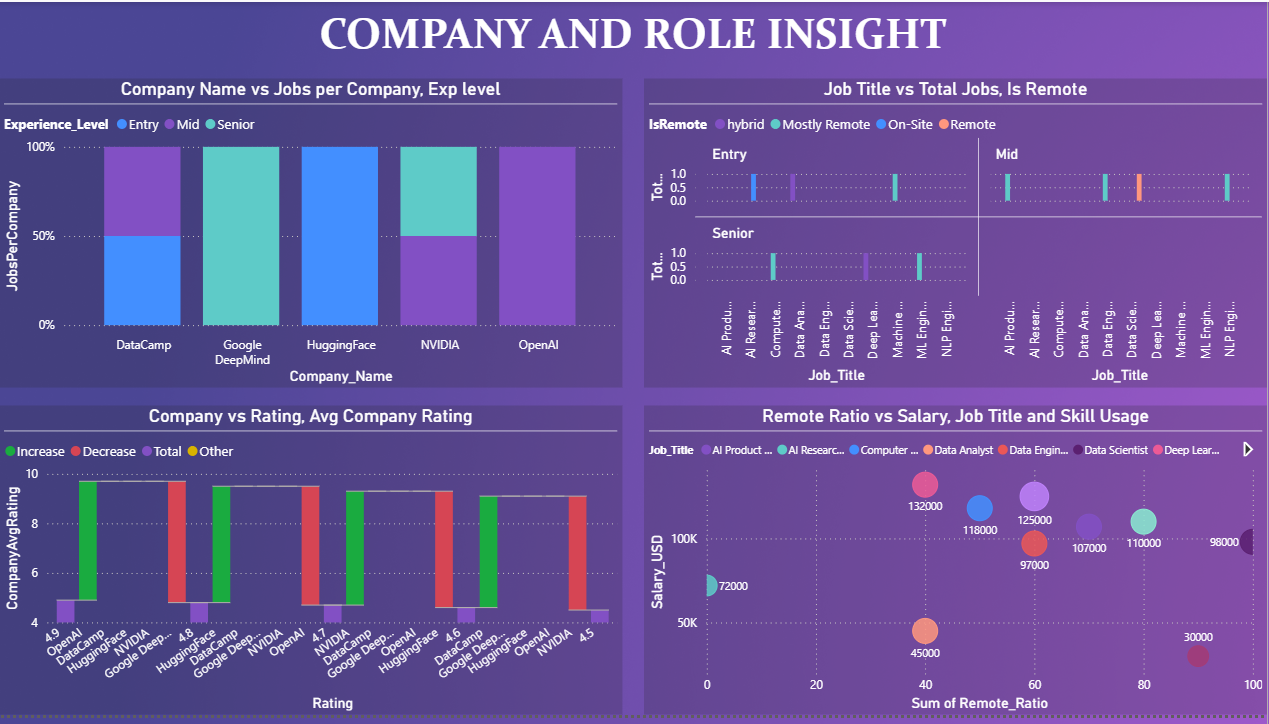

The page's visual inventory and layout, read from the dashboard file:
{"tool":"powerbi","page":{"name":"Company and Role Insight","canvas":[1280,720],"ordinal":2},"visuals":[{"type":"textbox","box":[0,0,1280,76.9],"z":0},{"type":"hundredPercentStackedColumnChart","title":"Company Name vs Jobs per Company, Exp level","fields":{"Category":["Dim_Companies.Company_Name"],"Y":["Dim_Companies.JobsPerCompany"],"Series":["Fact_Jobs.Experience_Level"]},"box":[0,76.9,629.2,312.3],"z":1000},{"type":"waterfallChart","title":"Company vs Rating, Avg Company Rating","fields":{"Category":["Dim_Companies.Rating"],"Breakdown":["Dim_Companies.Company_Name"],"Y":["Dim_Companies.CompanyAvgRating"]},"box":[0,407.7,629.2,312.3],"z":1001},{"type":"clusteredColumnChart","title":"Job Title vs Total Jobs, Is Remote","fields":{"Y":["Fact_Jobs.TotalJobs"],"Category":["Fact_Jobs.Job_Title"],"Series":["Fact_Jobs.IsRemote"],"Rows":["Fact_Jobs.Experience_Level"]},"box":[650.8,76.9,629.2,312.3],"z":1002},{"type":"scatterChart","title":"Remote Ratio vs Salary, Job Title and Skill Usage","fields":{"X":["Sum(Fact_Jobs.Remote_Ratio)"],"Y":["Fact_Jobs.Salary_USD"],"Size":["Dim_Skills.SkillUsageCount"],"Series":["Fact_Jobs.Job_Title"]},"box":[650.8,407.7,629.2,312.3],"z":1003}]}

Visuals, with their boxes in screenshot pixels (x1, y1, x2, y2), scaled from the page's 1280x720 canvas onto the 1269x724 screenshot:
textbox: <region>0, 0, 1268, 77</region>
"Company Name vs Jobs per Company, Exp level" hundredPercentStackedColumnChart: <region>0, 77, 624, 391</region>
"Company vs Rating, Avg Company Rating" waterfallChart: <region>0, 410, 624, 723</region>
"Job Title vs Total Jobs, Is Remote" clusteredColumnChart: <region>645, 77, 1268, 391</region>
"Remote Ratio vs Salary, Job Title and Skill Usage" scatterChart: <region>645, 410, 1268, 723</region>
